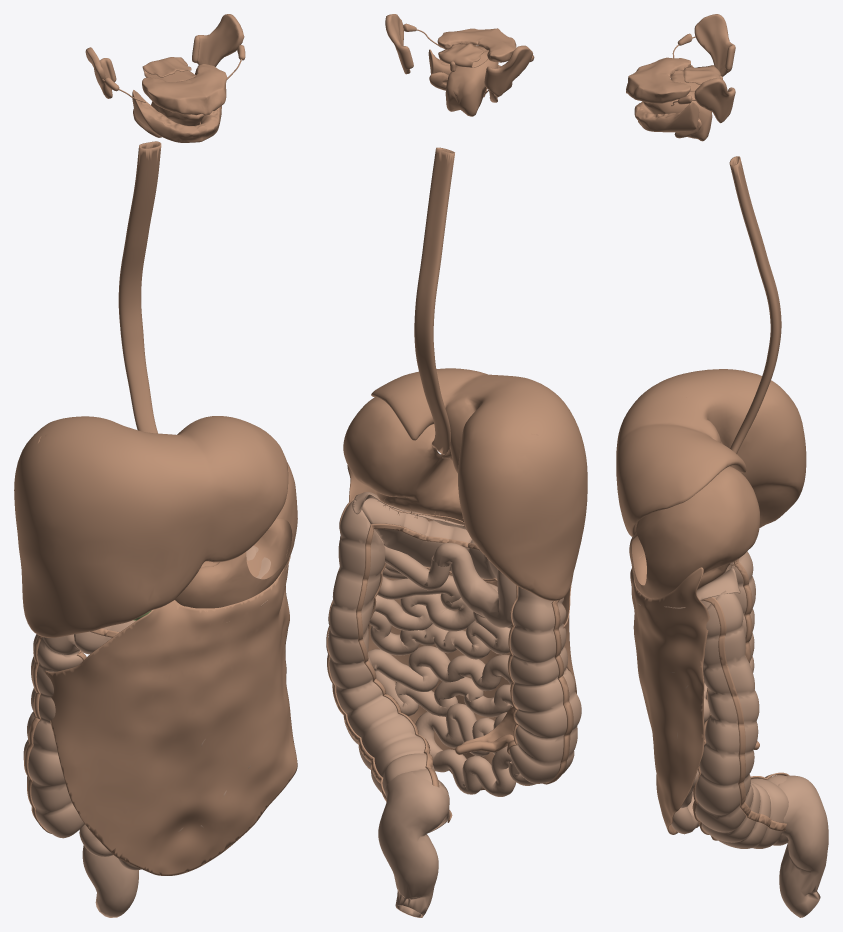
The model's file is male-digestive.glb.
3 renders of one model, left to right at view 1: azimuth 30°, elevation 25°; view 2: azimuth 150°, elevation 25°; view 3: azimuth 270°, elevation 25°, orthographic. The views are drawn at different scales.
Visible parts, largest first — view 1: Greater_omentum, Liver, Oesophagus, Ascending_colon, Stomach, Gingiva, Sigmoid_colon, Parotid_glandl, Mesocolic_taenia, Soft_palate, Transverse_colon, Parotid_glandr (+1 smaller); view 2: Liver, Jejunum, Descending_colon, Ascending_colon, Stomach, Sigmoid_colon, Oesophagus, Transverse_colon, Duodenum, Free_taenia, Greater_omentum, Mesocolic_taenia (+8 smaller); view 3: Liver, Greater_omentum, Descending_colon, Stomach, Sigmoid_colon, Gingiva, Oesophagus, Mesocolic_taenia, Parotid_glandr, Parotid_glandl, Ascending_colon, Jejunum (+4 smaller).
Part boxes in pixels (x1,y1,x2,y2): Greater_omentum: [44, 546, 297, 875]; Liver: [14, 416, 288, 637]; Oesophagus: [118, 141, 161, 433]; Ascending_colon: [23, 634, 84, 838]; Stomach: [175, 462, 297, 608]; Gingiva: [132, 64, 227, 142]; Sigmoid_colon: [82, 845, 138, 917]; Parotid_glandl: [192, 14, 244, 66]; Mesocolic_taenia: [24, 628, 119, 833]; Soft_palate: [142, 57, 196, 82]; Transverse_colon: [74, 547, 256, 654]; Parotid_glandr: [85, 47, 116, 98]; Liver: [371, 368, 587, 600]; Jejunum: [368, 546, 535, 796]; Descending_colon: [328, 499, 449, 832]; Ascending_colon: [509, 586, 581, 783]; Stomach: [343, 397, 464, 524]; Sigmoid_colon: [378, 771, 449, 917]; Oesophagus: [414, 147, 454, 454]; Transverse_colon: [355, 498, 496, 579]; Duodenum: [432, 542, 518, 627]; Free_taenia: [356, 523, 519, 787]; Greater_omentum: [347, 465, 576, 790]; Mesocolic_taenia: [326, 498, 573, 801]; Liver: [616, 369, 806, 536]; Greater_omentum: [630, 553, 710, 834]; Descending_colon: [695, 590, 788, 848]; Stomach: [629, 466, 759, 598]; Sigmoid_colon: [778, 775, 828, 917]; Gingiva: [626, 57, 699, 132]; Oesophagus: [729, 156, 781, 453]; Mesocolic_taenia: [701, 597, 786, 831]; Parotid_glandr: [694, 14, 735, 76]; Parotid_glandl: [694, 78, 735, 123]; Ascending_colon: [704, 551, 755, 723]; Jejunum: [670, 672, 710, 834].
Bounding box in the file's own units: 0.7329 × 2.47 × 0.5474.
